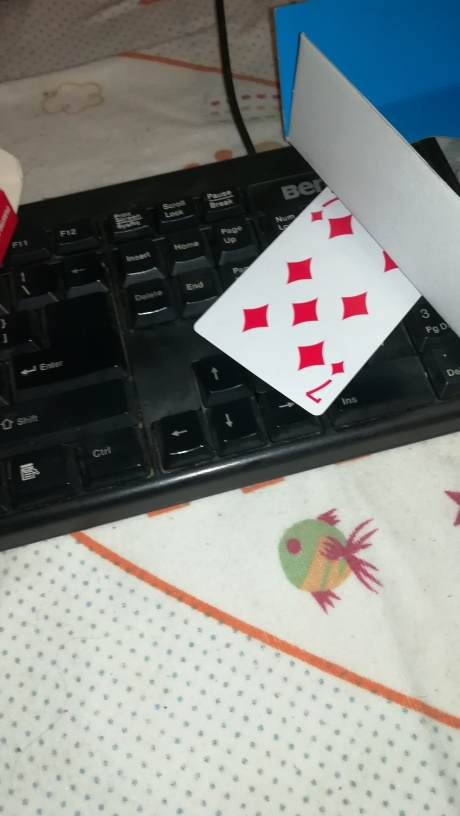fk 7: (191, 166, 439, 417)
